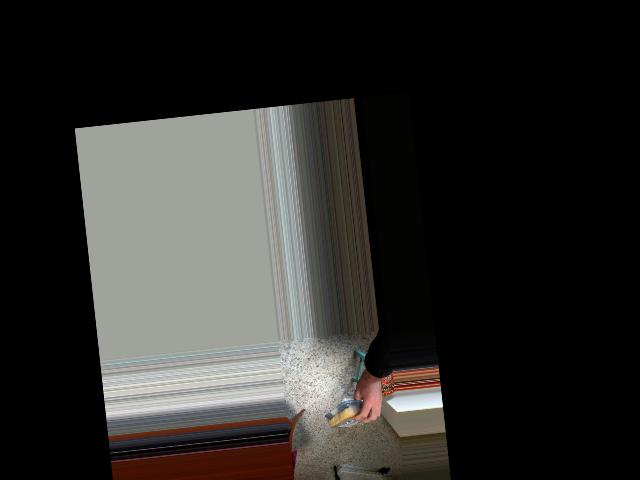cheese: (323, 402, 372, 430)
